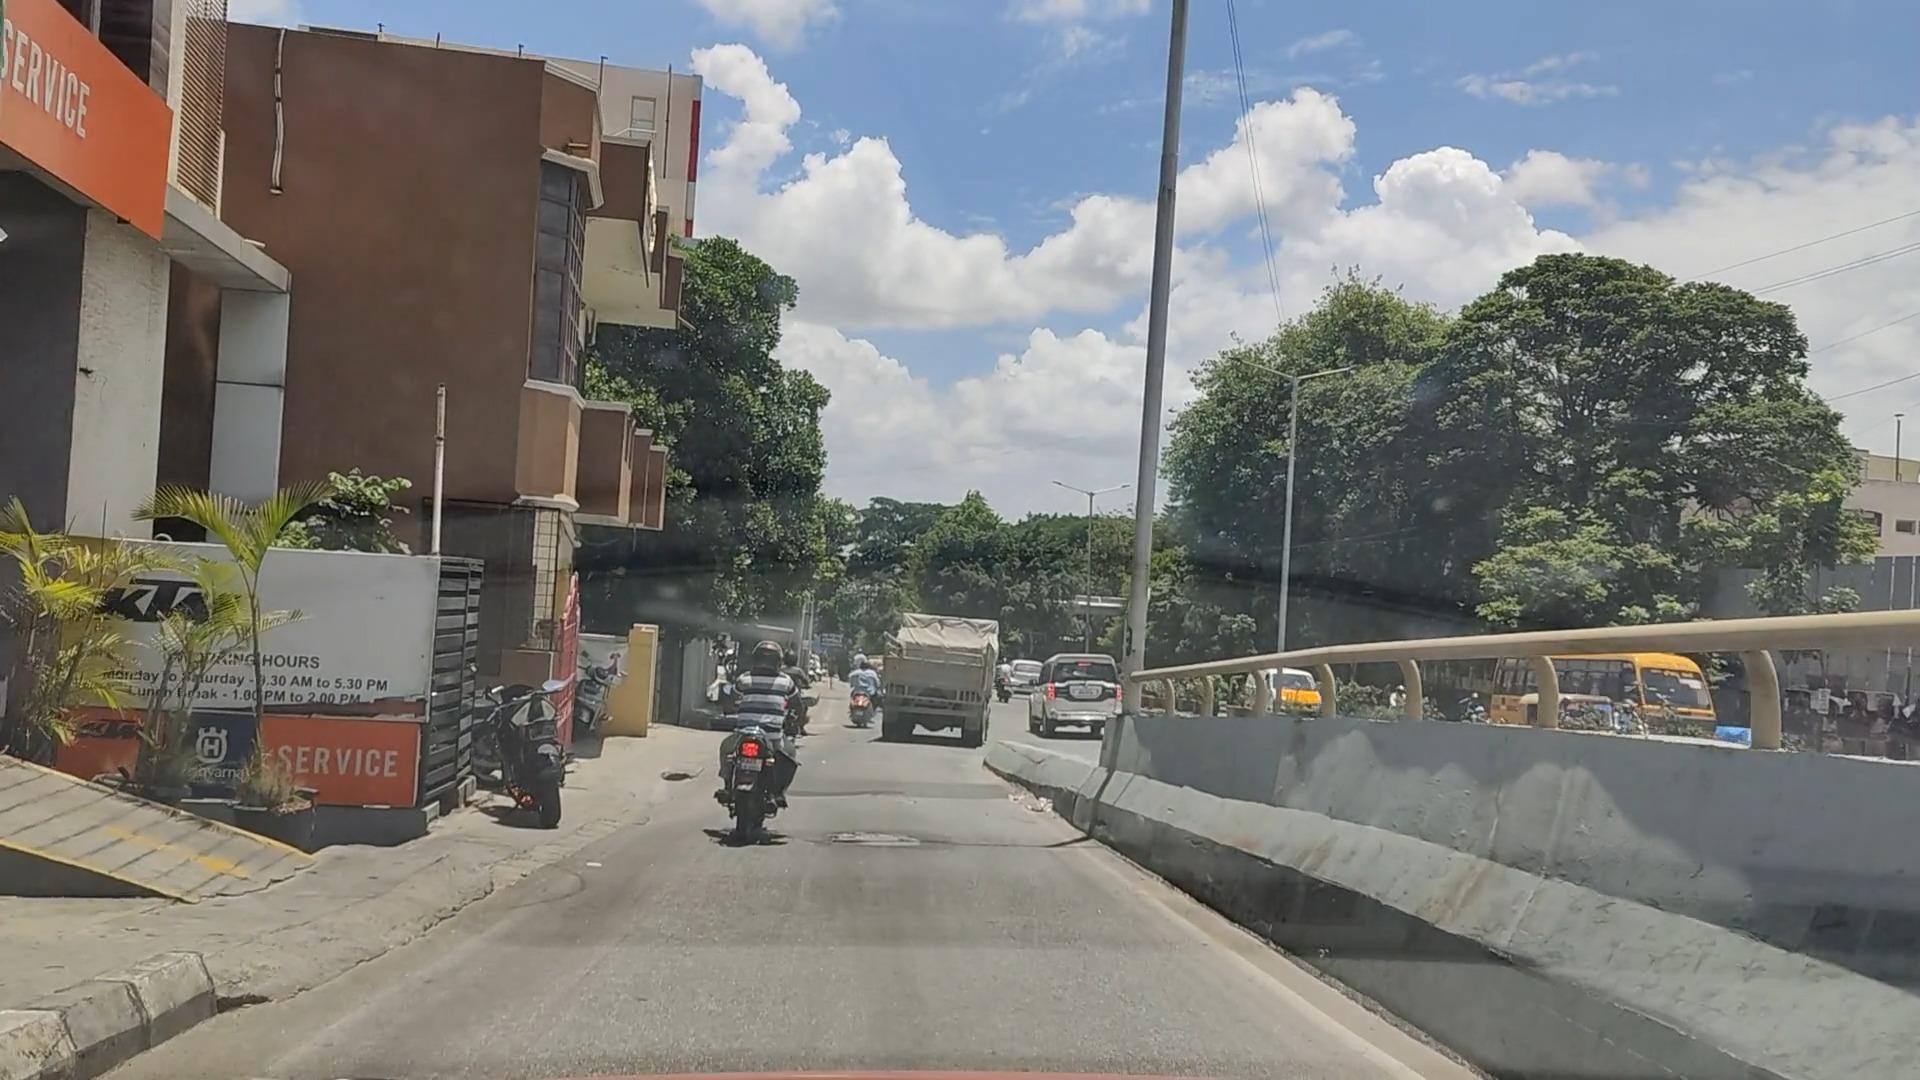HMV: (866, 607, 1009, 766)
LMV: (483, 658, 595, 845)
RoadDamages: (811, 804, 945, 870)
